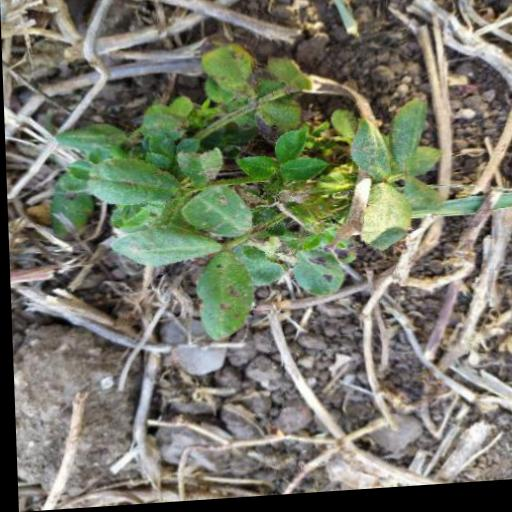weed: (50, 34, 460, 355)
